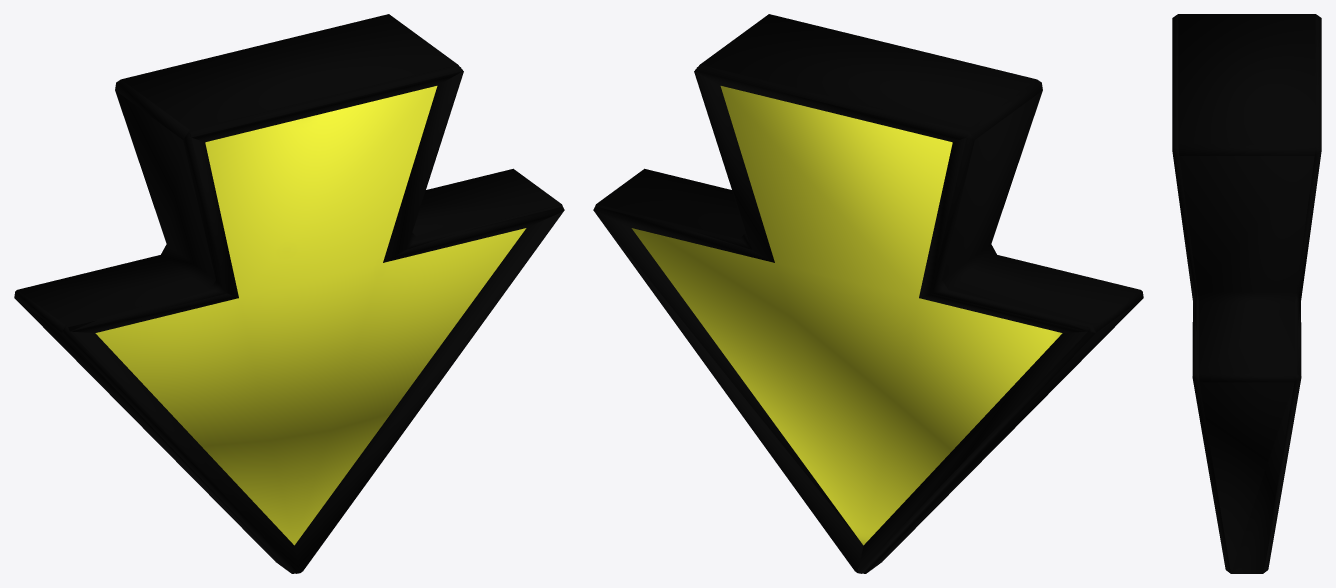
File: Arrow11 2.fbx
3 views of the same model, side by side, from view 1: azimuth 30°, elevation 25°; view 2: azimuth 150°, elevation 25°; view 3: azimuth 270°, elevation 25° (orthographic).
Visible parts, largest first — view 1: Arrow; view 2: Arrow; view 3: Arrow.
Boxes of the visible parts, x1,y1,x2,y2 form: Arrow: (14, 14, 564, 573); Arrow: (593, 14, 1143, 573); Arrow: (1172, 14, 1321, 573).
Bounding box in the file's own units: 0.6143 × 0.578 × 0.1591.
1 material, 1 textured.
